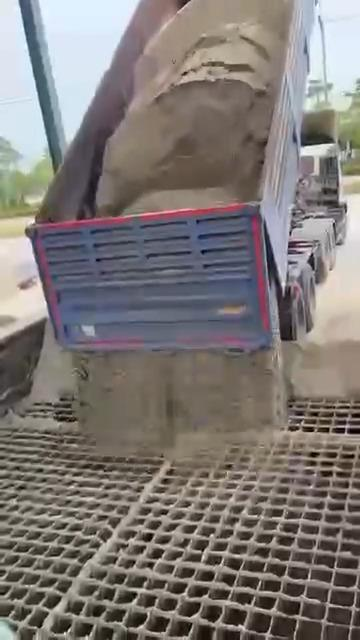sand: (30, 323, 359, 459), (97, 0, 293, 216), (44, 462, 169, 630), (0, 412, 68, 432)
